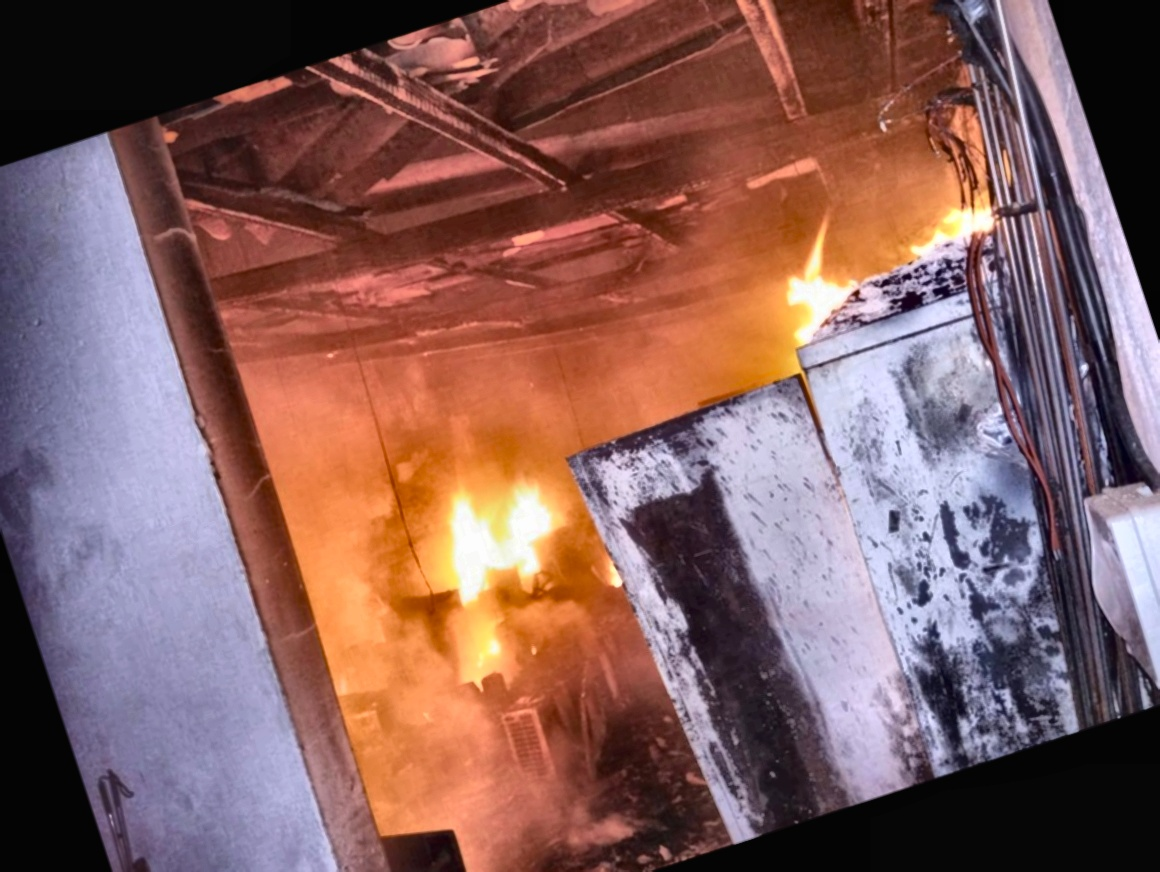fire: (677, 135, 1023, 376), (377, 399, 613, 674)
